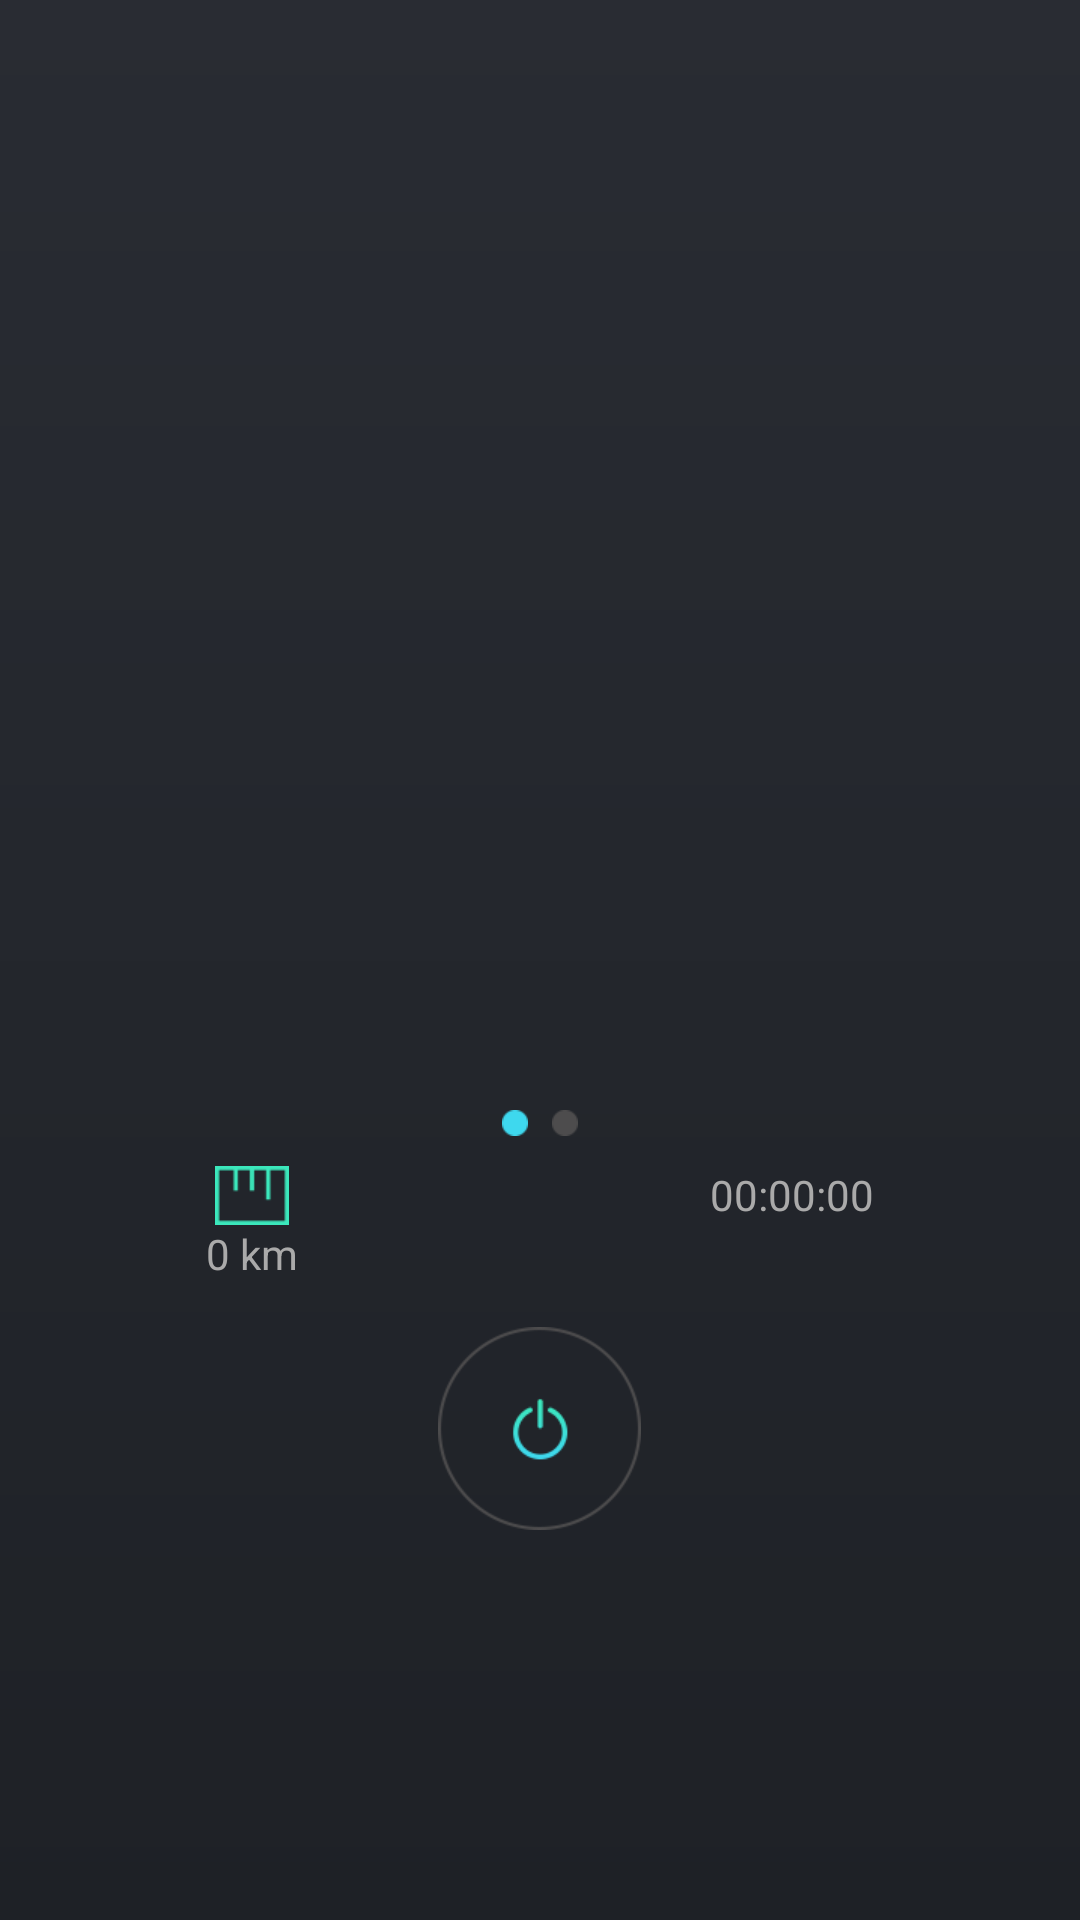

Where icons sit on this 1080px x 1920px app screen, as [x1=x1, y1=y1, x2=x2, y2=y2]:
distance: [x1=215, y1=1166, x2=289, y2=1225]
start: [x1=438, y1=1327, x2=641, y2=1530]
